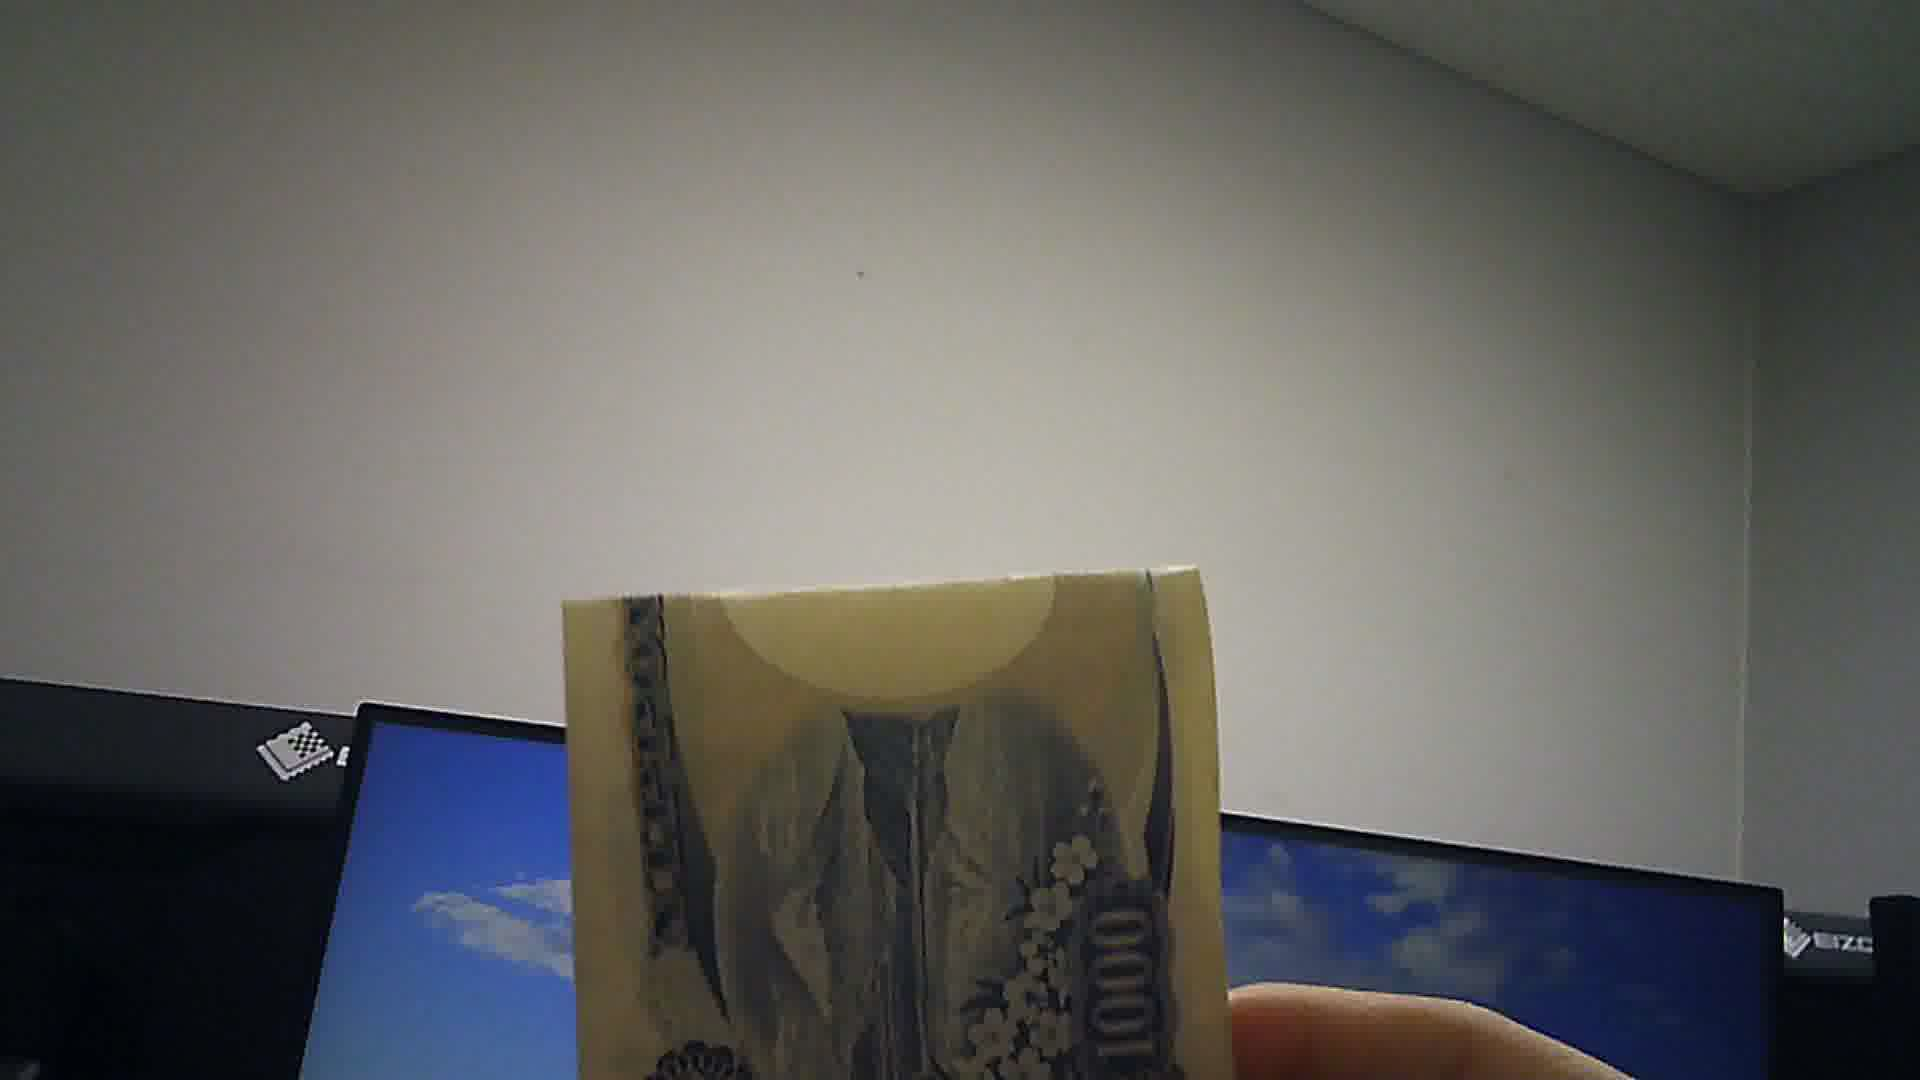1,000 Yen: (546, 564, 1242, 1079)
